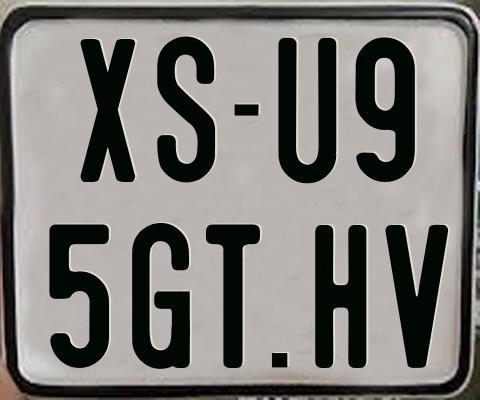5: (48, 223, 111, 371)
9: (355, 35, 415, 183)
G: (129, 221, 191, 367)
H: (314, 225, 366, 372)
S: (155, 35, 215, 188)
T: (203, 221, 258, 368)
U: (275, 35, 336, 186)
V: (382, 222, 451, 367)
X: (80, 37, 139, 181)
